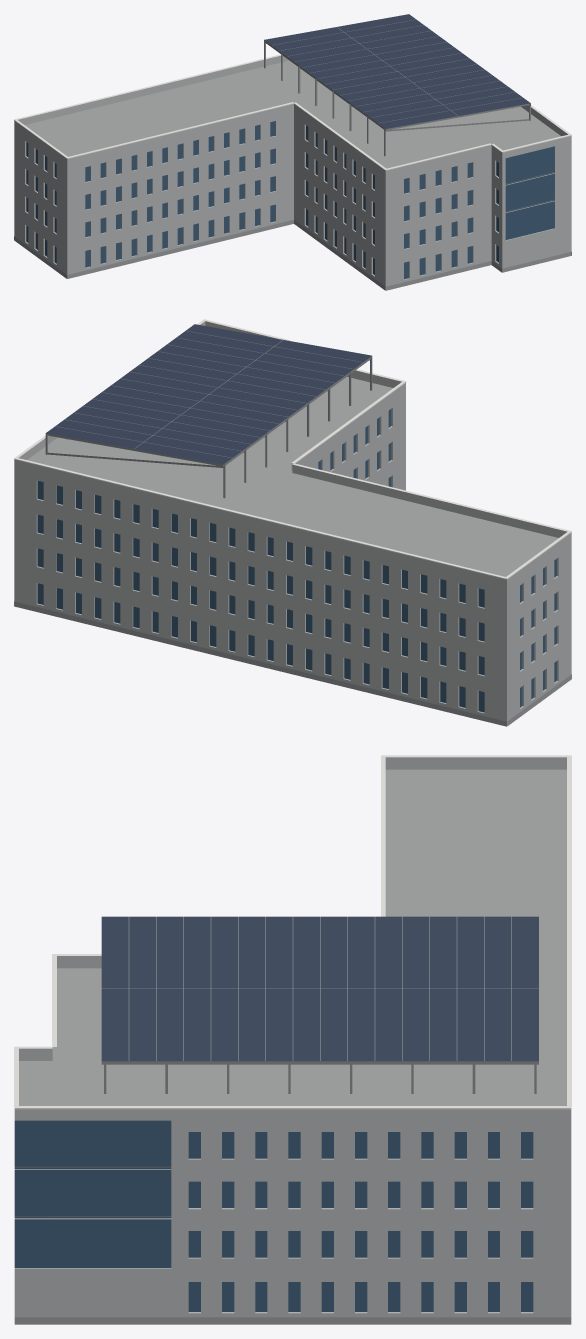
3 renders of one model, top to bottom at view 1: azimuth 30°, elevation 25°; view 2: azimuth 150°, elevation 25°; view 3: azimuth 270°, elevation 25°, orthographic. The views are drawn at different scales.
Visible parts, largest first — view 1: poscoGreen__wall, poscoGreen__roof, poscoGreen__pvPanel, poscoGreen__glass, poscoGreen__parapet, poscoGreen__pvFrame, poscoGreen__base, poscoGreen__trim; view 2: poscoGreen__wall, poscoGreen__roof, poscoGreen__pvPanel, poscoGreen__glass, poscoGreen__parapet, poscoGreen__pvFrame, poscoGreen__trim, poscoGreen__base; view 3: poscoGreen__wall, poscoGreen__pvPanel, poscoGreen__roof, poscoGreen__glass, poscoGreen__parapet, poscoGreen__trim, poscoGreen__pvFrame, poscoGreen__base.
Part boxes in pixels (x1=…): poscoGreen__wall: x1=14, y1=110, x2=571, y2=290; poscoGreen__roof: x1=25, y1=60, x2=560, y2=168; poscoGreen__pvPanel: x1=264, y1=14, x2=530, y2=128; poscoGreen__glass: x1=26, y1=121, x2=554, y2=279; poscoGreen__parapet: x1=14, y1=55, x2=571, y2=176; poscoGreen__pvFrame: x1=264, y1=19, x2=530, y2=156; poscoGreen__base: x1=14, y1=219, x2=571, y2=290; poscoGreen__trim: x1=14, y1=54, x2=571, y2=170; poscoGreen__wall: x1=14, y1=390, x2=571, y2=726; poscoGreen__roof: x1=27, y1=377, x2=558, y2=576; poscoGreen__pvPanel: x1=46, y1=324, x2=371, y2=464; poscoGreen__glass: x1=37, y1=409, x2=556, y2=712; poscoGreen__parapet: x1=14, y1=321, x2=571, y2=586; poscoGreen__pvFrame: x1=45, y1=330, x2=372, y2=498; poscoGreen__trim: x1=14, y1=319, x2=571, y2=579; poscoGreen__base: x1=14, y1=601, x2=571, y2=726; poscoGreen__wall: x1=14, y1=1120, x2=571, y2=1317; poscoGreen__pvPanel: x1=101, y1=916, x2=538, y2=1061; poscoGreen__roof: x1=19, y1=769, x2=566, y2=1105; poscoGreen__glass: x1=14, y1=1120, x2=533, y2=1311; poscoGreen__parapet: x1=14, y1=757, x2=571, y2=1119; poscoGreen__trim: x1=14, y1=755, x2=571, y2=1109; poscoGreen__pvFrame: x1=101, y1=916, x2=538, y2=1093; poscoGreen__base: x1=14, y1=1317, x2=571, y2=1324.
Bounding box in the file's own units: 61.1 × 21.51 × 40.84.
